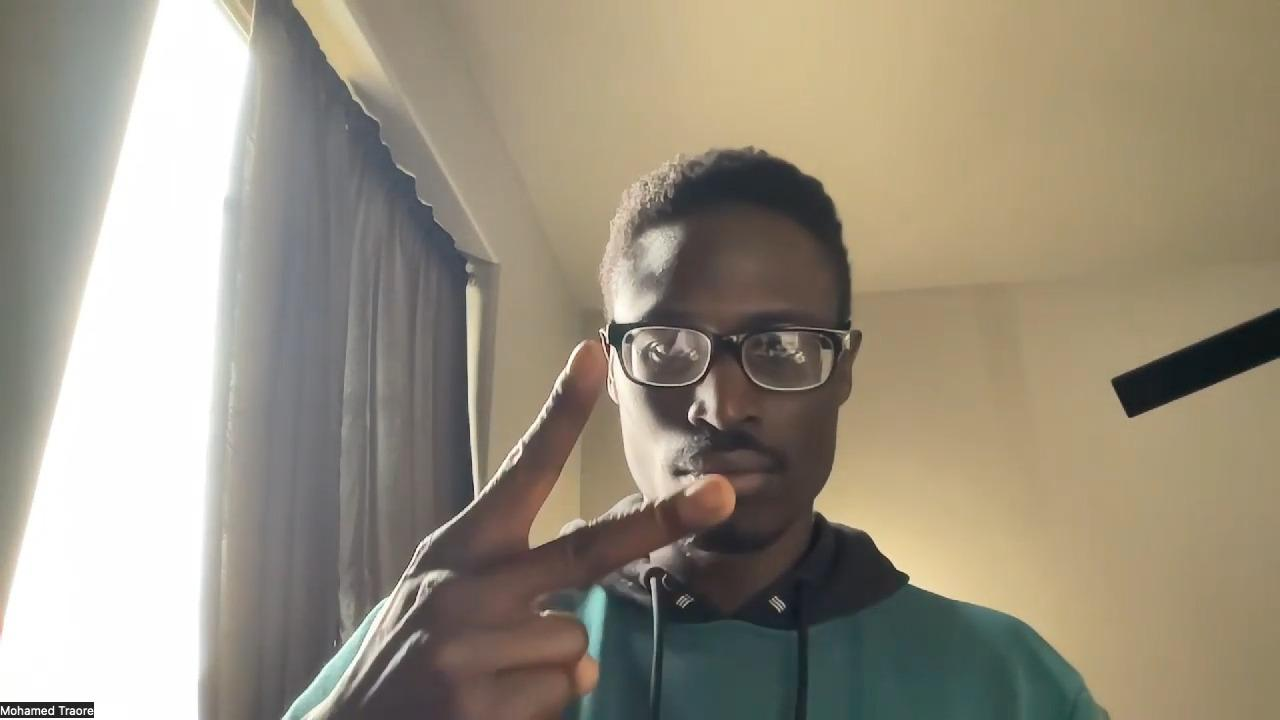Scissors: (327, 338, 737, 720)
